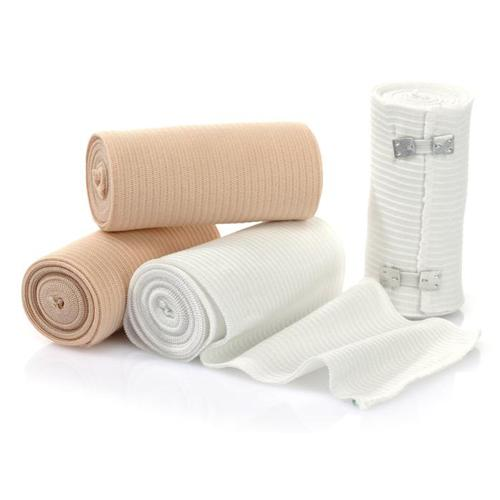bandage: (120, 217, 479, 408), (23, 217, 221, 352), (84, 119, 322, 231), (362, 80, 469, 315)
